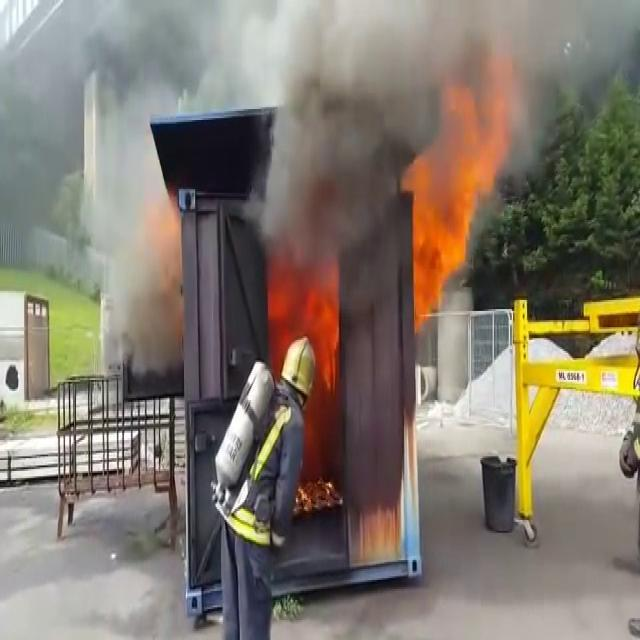Fire: (396, 104, 468, 318), (282, 265, 334, 327)
Smoke: (242, 13, 391, 246)
